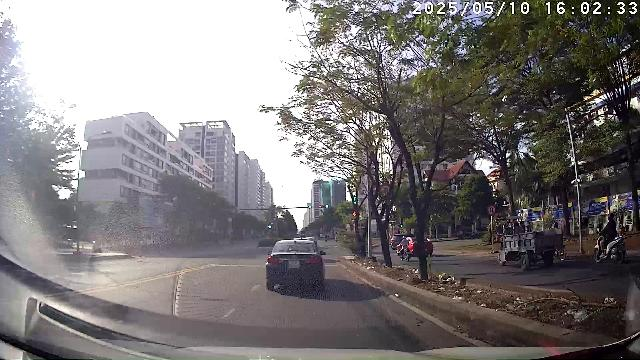124a-cam-quay-dau-xe: (487, 204, 497, 216)
